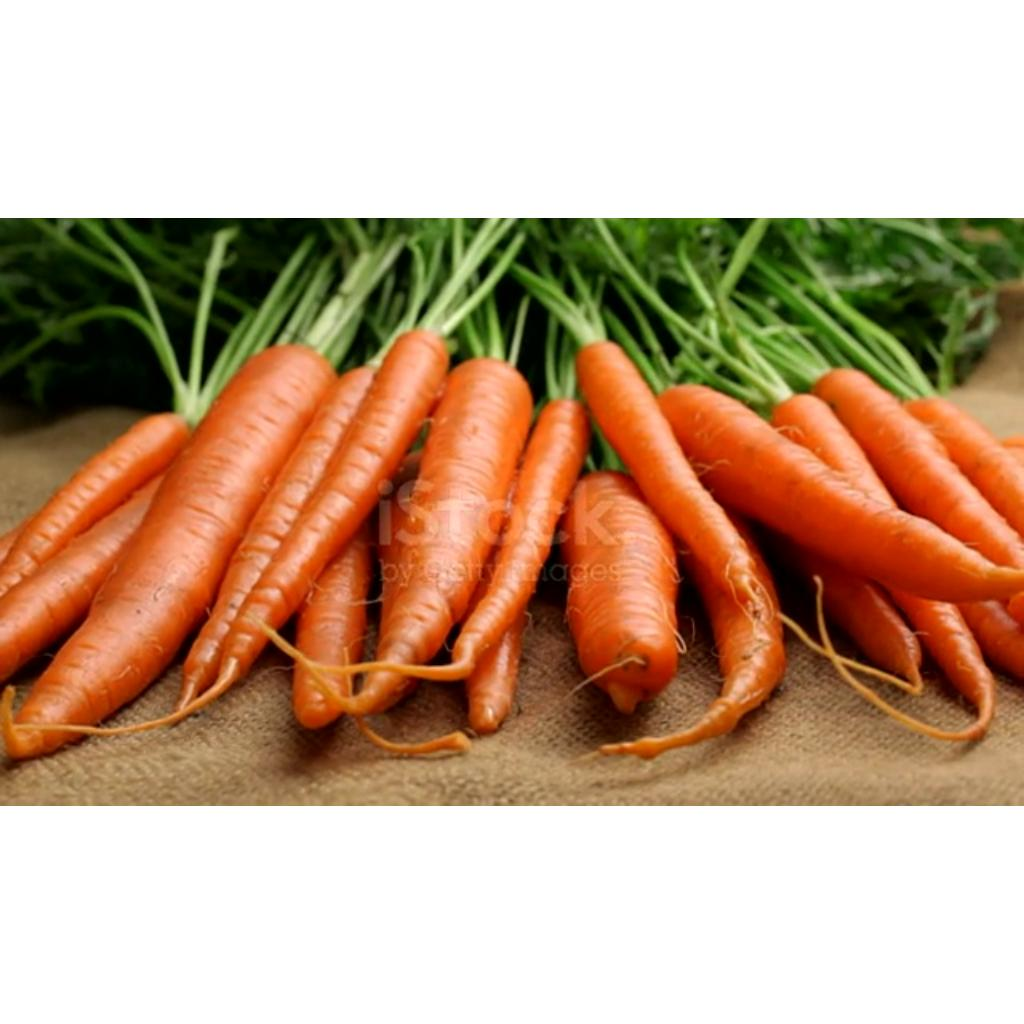carrot: (16, 346, 336, 760), (211, 330, 448, 697), (658, 386, 1024, 602), (180, 368, 375, 705), (349, 358, 532, 715), (576, 346, 762, 605), (814, 370, 1024, 569), (450, 400, 590, 669), (0, 414, 190, 595), (0, 476, 161, 683), (562, 472, 678, 713), (785, 538, 920, 691), (907, 398, 1024, 537), (691, 563, 784, 737), (893, 590, 996, 741), (294, 528, 367, 729), (772, 394, 896, 507), (466, 614, 526, 734), (959, 600, 1024, 679)
